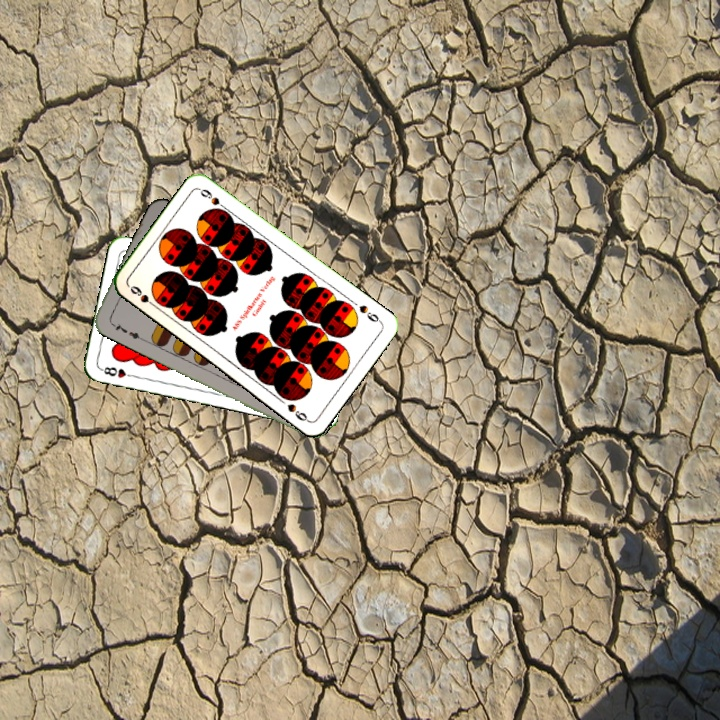E7: (106, 319, 144, 342)
H8: (97, 363, 137, 380)
S9: (126, 281, 160, 311), (355, 301, 384, 326)
